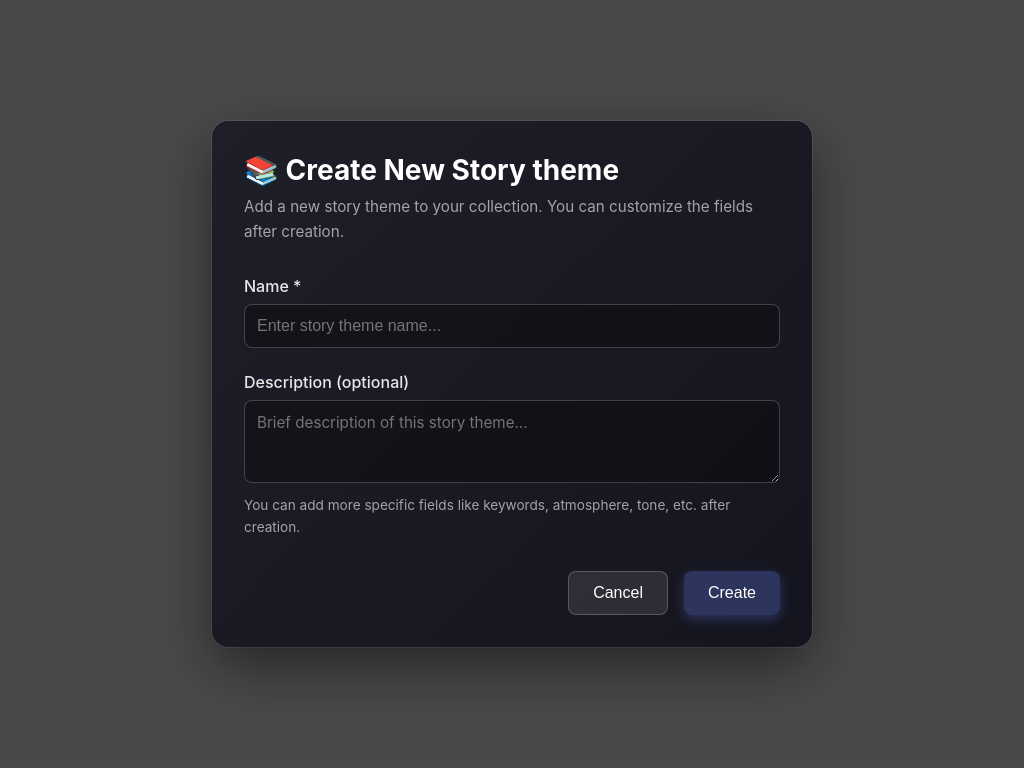
Test: StoryPresetModal › enables create button when name is provided
Expected: the button "Create" is disabled, left=684, top=571, right=780, bottom=615
Type name
Type "Test Theme" into the field with placeholder "Enter story theme name...".
click(512, 326); type("Test Theme")  # box left=244, top=304, right=780, bottom=348
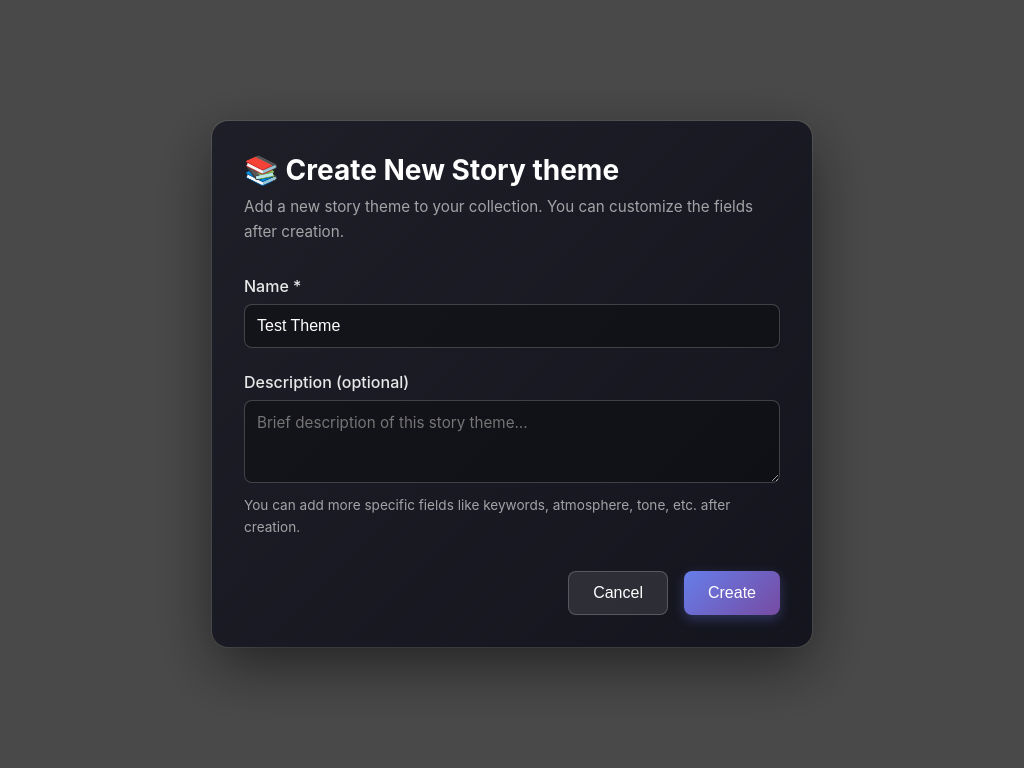
Result: the button "Create" is enabled at left=684, top=571, right=780, bottom=615
